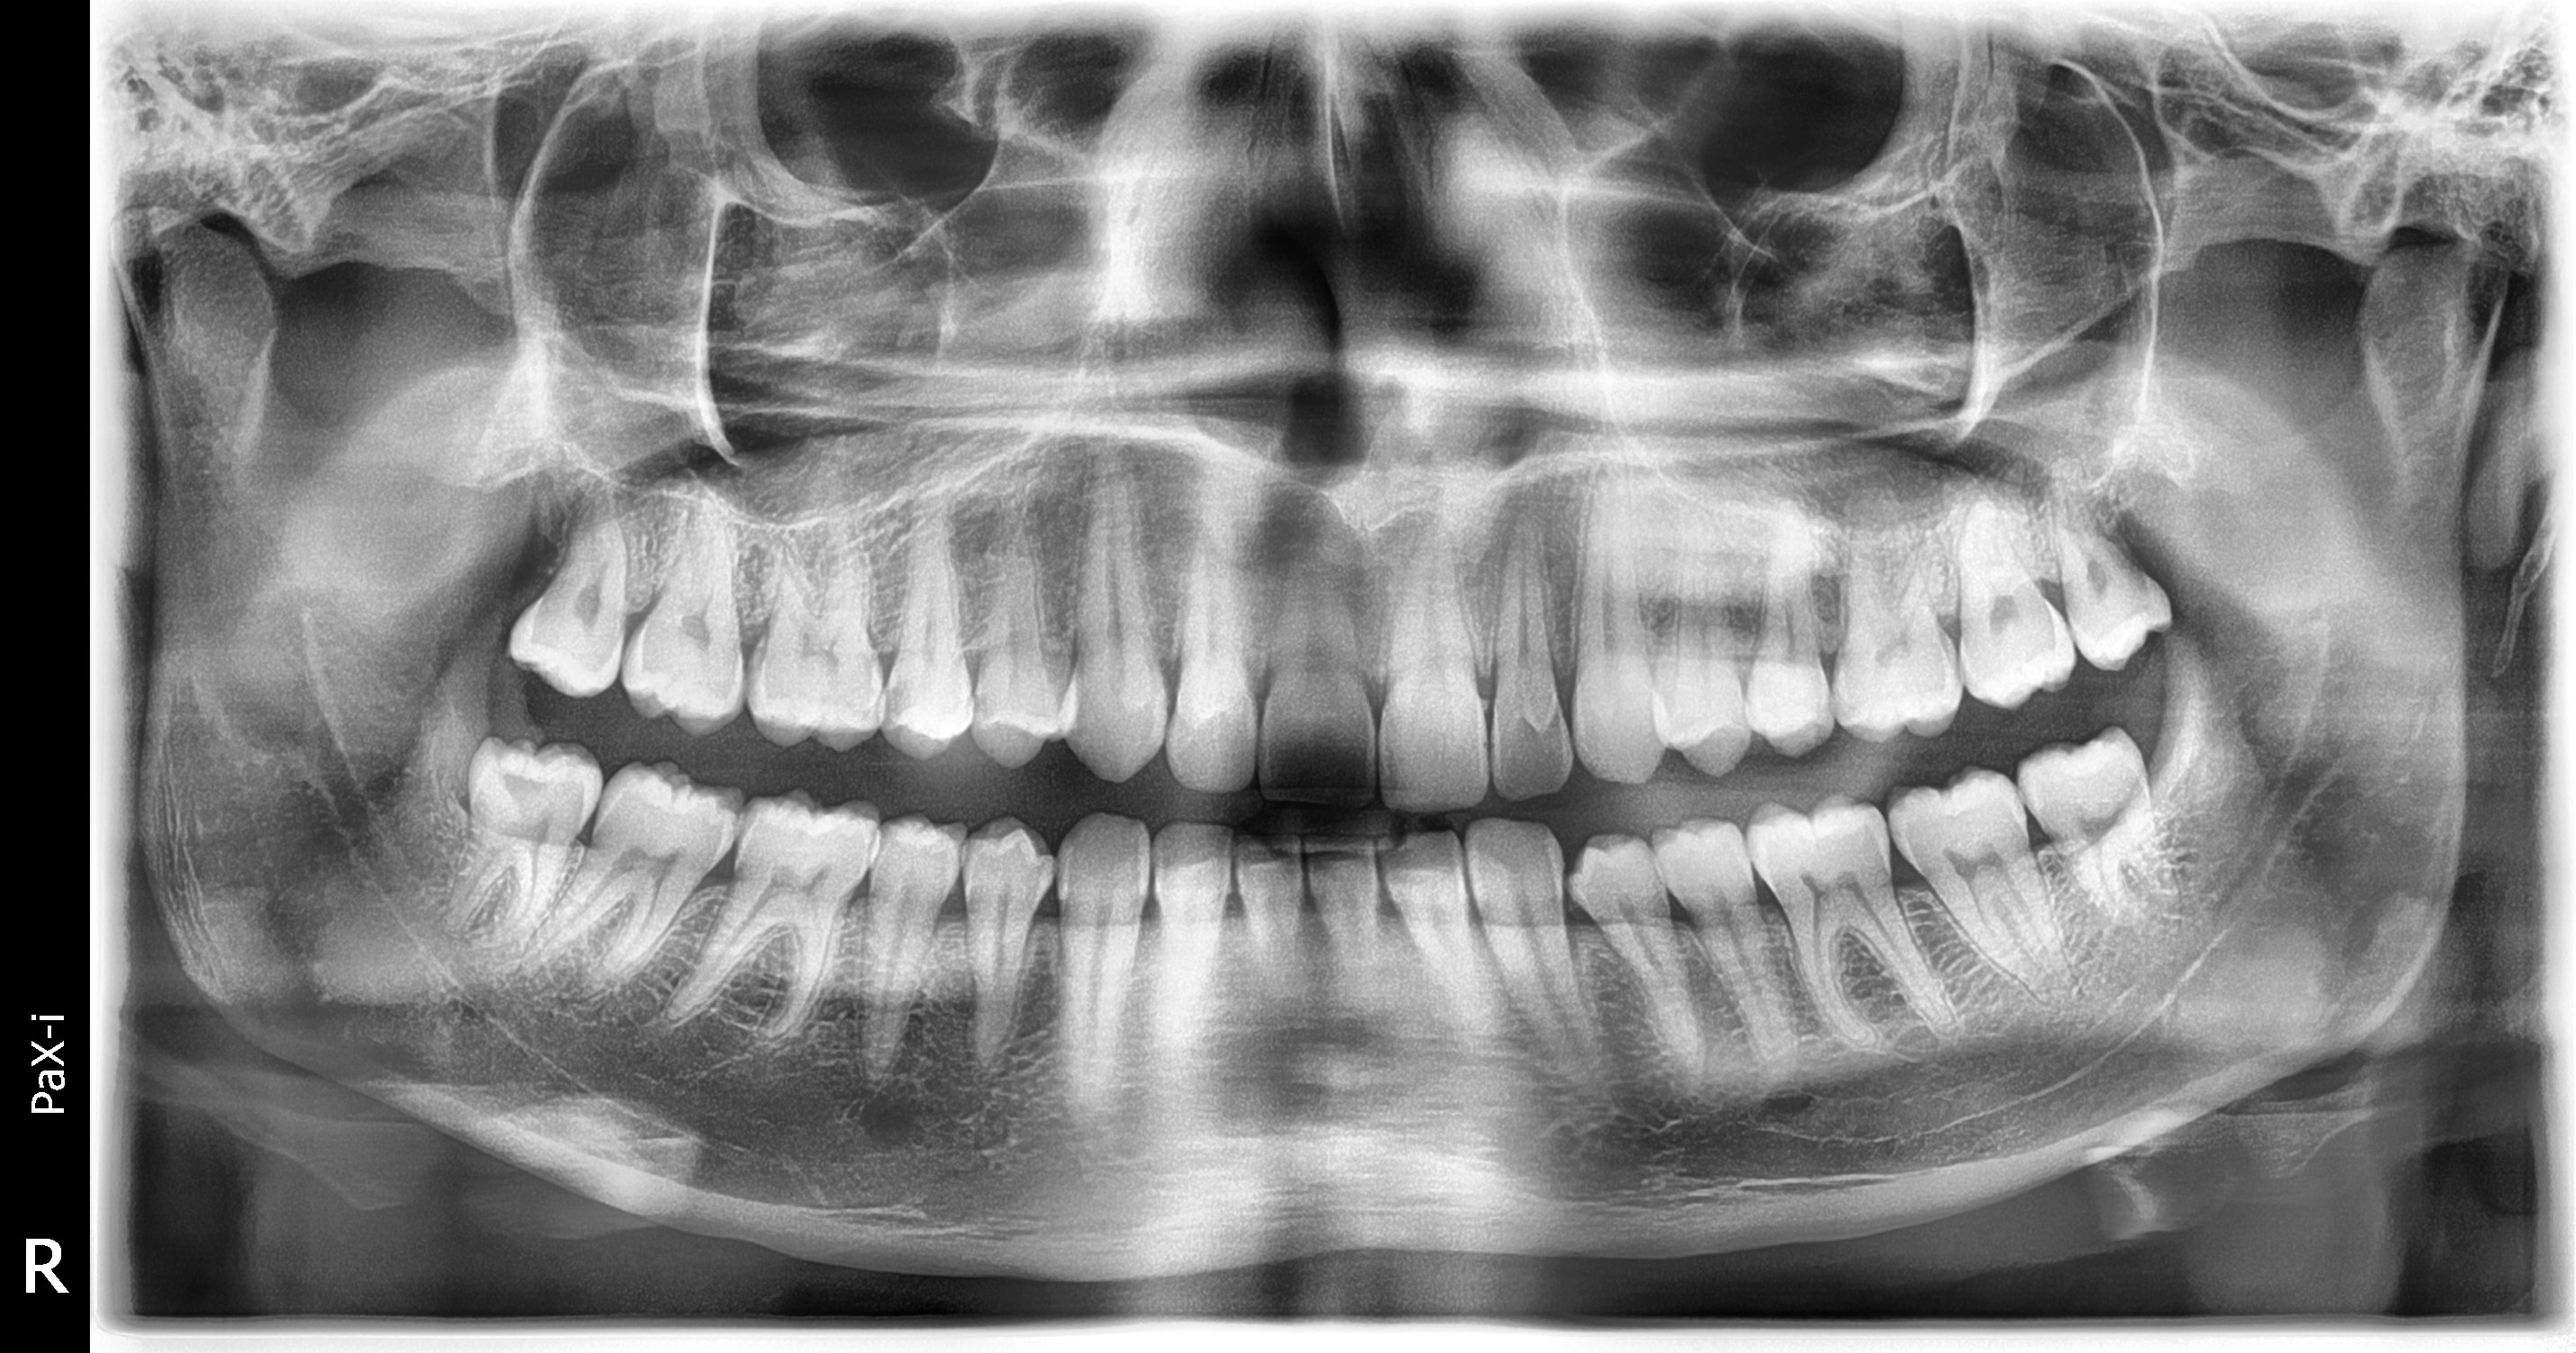CAR: (465, 312, 1470, 1043), (421, 320, 1336, 1053)
